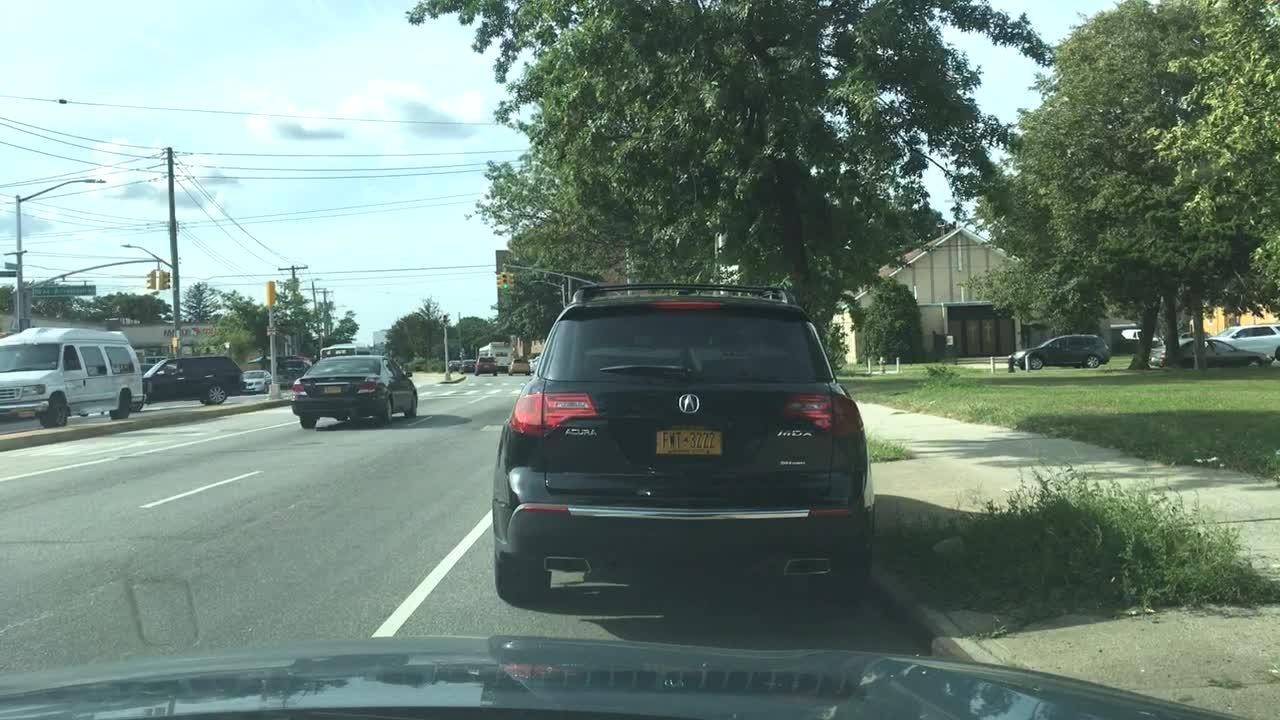acura: (667, 383, 708, 420)
